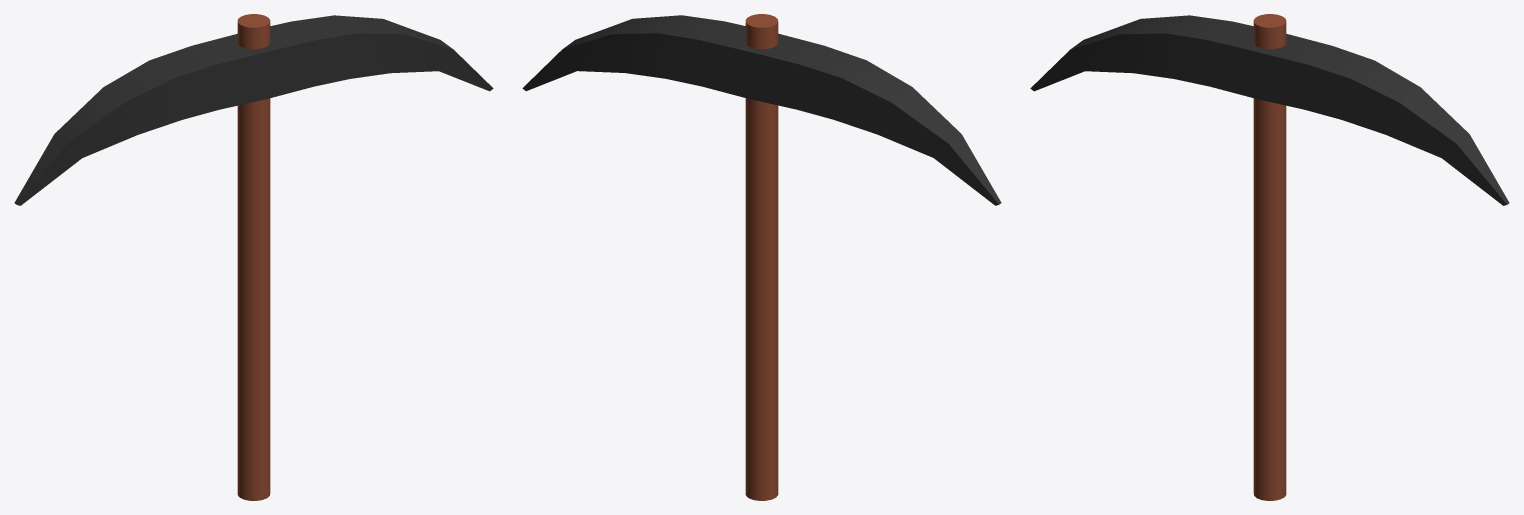
The model's file is KAZMA.fbx.
The picture shows the model from 3 angles, left to right: view 1: azimuth 30°, elevation 25°; view 2: azimuth 150°, elevation 25°; view 3: azimuth 330°, elevation 25°; orthographic projection.
Visible parts, largest first — view 1: Cylinder.002; view 2: Cylinder.002; view 3: Cylinder.002.
Boxes of the visible parts, x1,y1,x2,y2 form: Cylinder.002: [14, 14, 493, 500]; Cylinder.002: [522, 14, 1001, 500]; Cylinder.002: [1030, 14, 1509, 500].
Bounding box in the file's own units: 2 × 1.89 × 0.1889.
